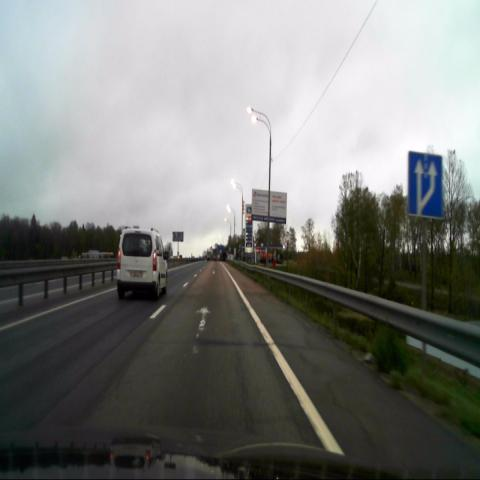5_15_3: (407, 151, 442, 219)
